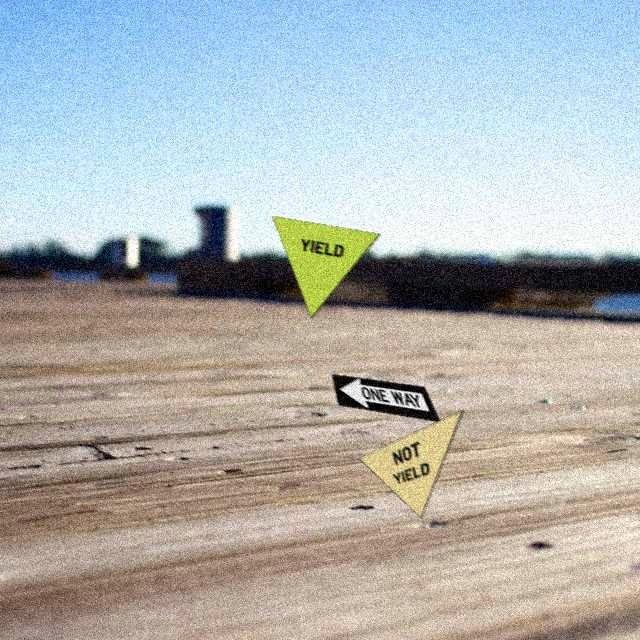NOT_YIELD: (358, 408, 464, 518)
ONE_WAY_ left: (331, 373, 441, 422)
YIELD: (271, 215, 381, 319)
